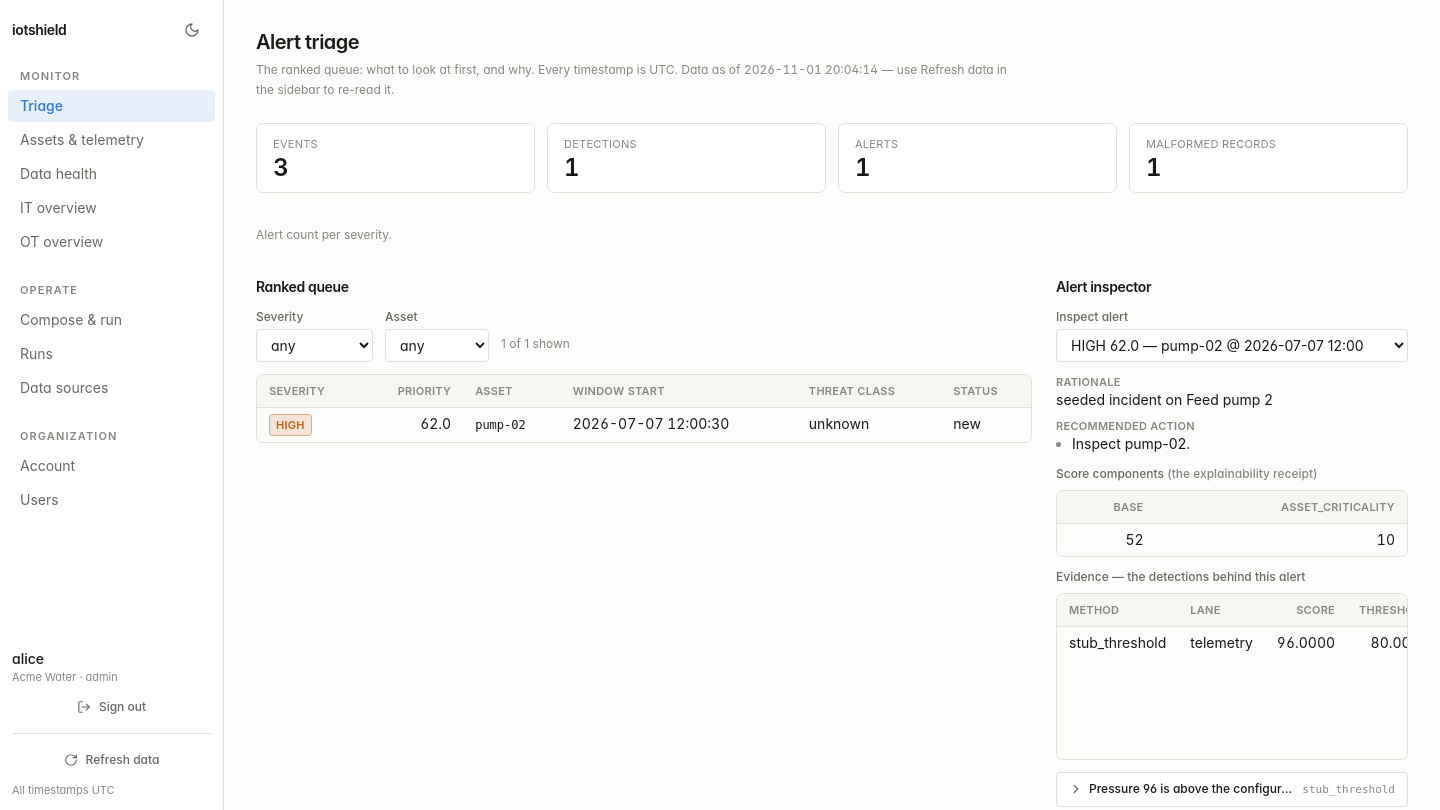
Scenario: with login required › signs out on the server and lands on the login page
Click the button "Sign out" at (112, 707), box [12, 693, 211, 721]
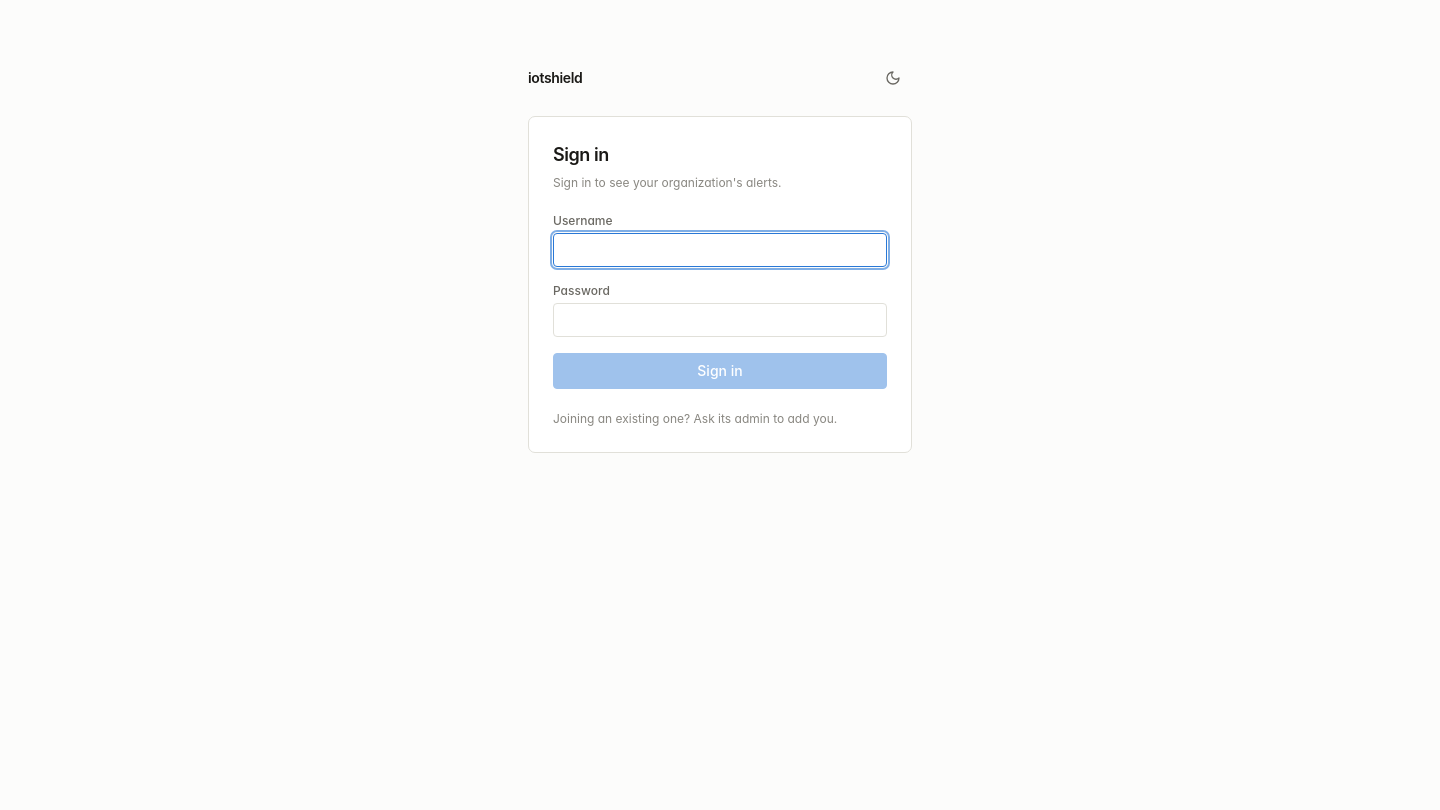
Expected: the heading "Sign in" is shown, [553, 144, 609, 165]
